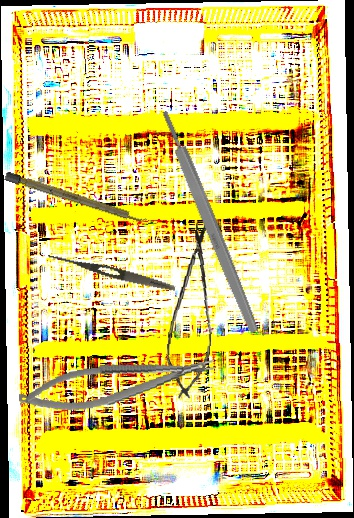Dressing Forceps: (46, 251, 177, 294)
Micro Scissor: (162, 216, 222, 405)
Needle Holder: (16, 349, 218, 419)
Scalpel Handle: (158, 108, 262, 335), (4, 171, 148, 226)
